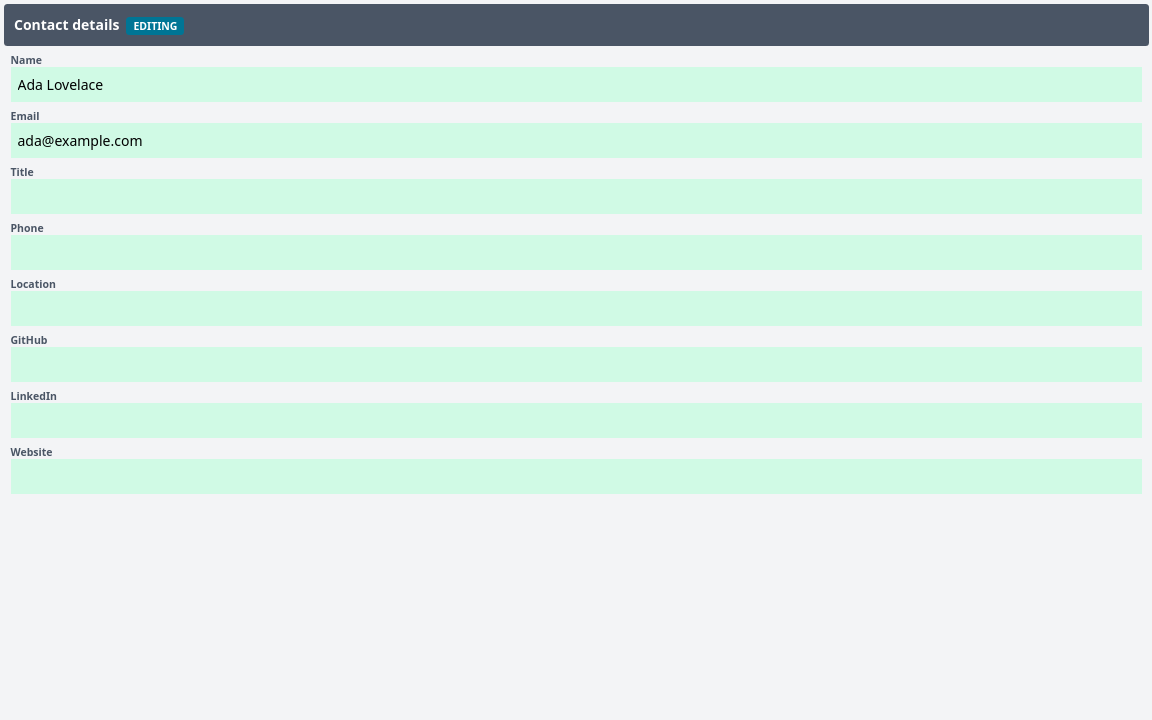
Test case: ContactEditor › shows an inline error when the required name is cleared, and clears it once refilled
This screenshot has width=1152, height=720.
Clear the field named "name" at (576, 84), box [10, 66, 1142, 102]
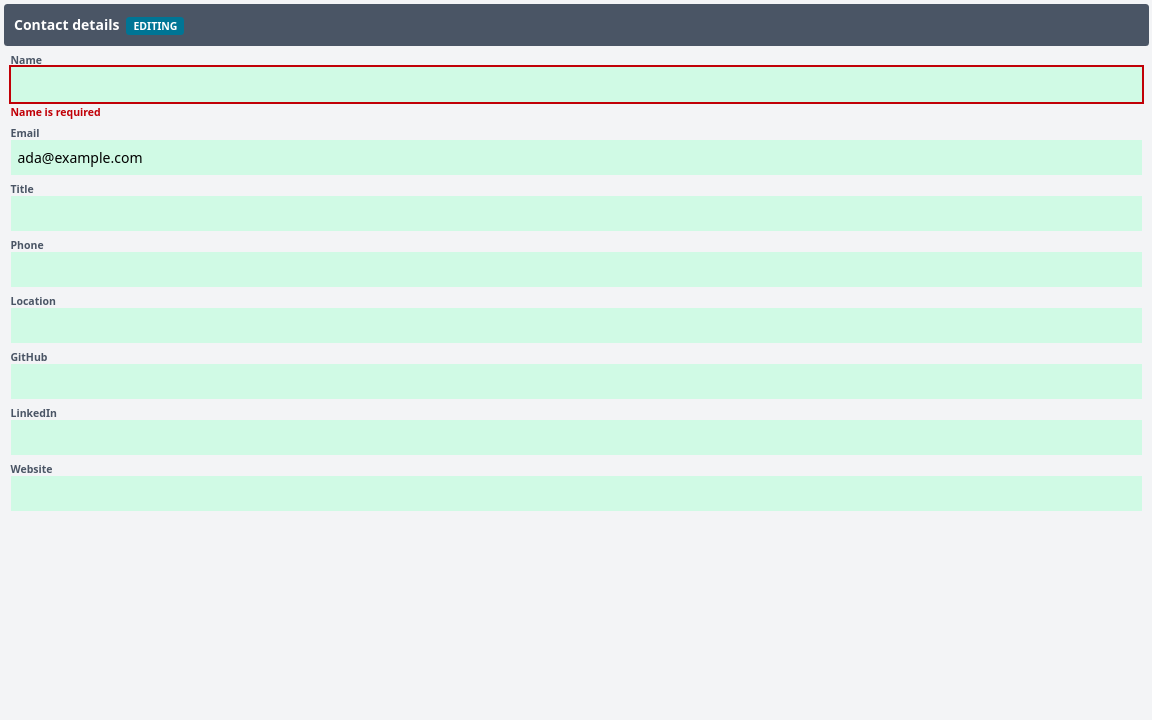
Expected: the message "Name is required" is shown, [10, 105, 101, 119]
Type "Grace Hopper" into the field named "name" at (576, 84), box [10, 66, 1142, 102]
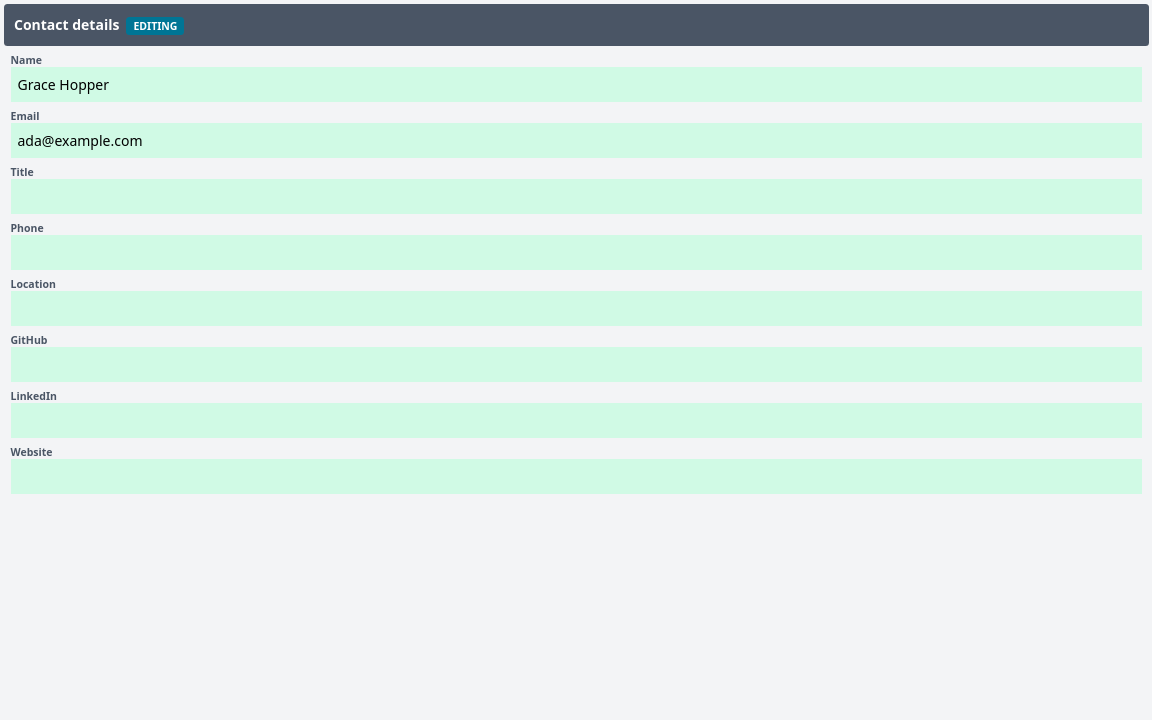
Expected: the message "Name is required" is gone
